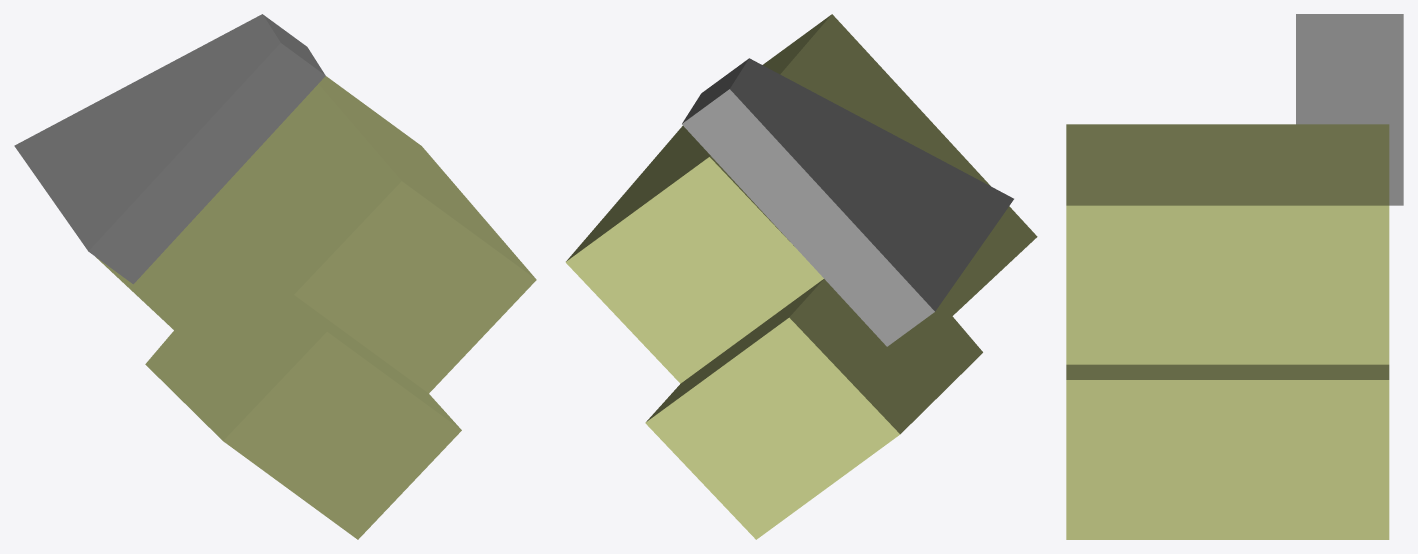
The picture shows the model from 3 angles, left to right: view 1: azimuth 30°, elevation 25°; view 2: azimuth 150°, elevation 25°; view 3: azimuth 270°, elevation 25°; orthographic projection. The views are drawn at different scales.
Visible parts, largest first — view 1: 0_1_0_0_1_0_1_0_2_3; view 2: 0_1_0_0_1_0_1_0_2_3; view 3: 0_1_0_0_1_0_1_0_2_3.
Boxes of the visible parts, box(x1,y1,x2,y2) form: 0_1_0_0_1_0_1_0_2_3: box(14, 14, 536, 539); 0_1_0_0_1_0_1_0_2_3: box(565, 14, 1037, 539); 0_1_0_0_1_0_1_0_2_3: box(1066, 14, 1403, 539).
Bounding box in the file's own units: 14.69 × 15.14 × 9.4.
